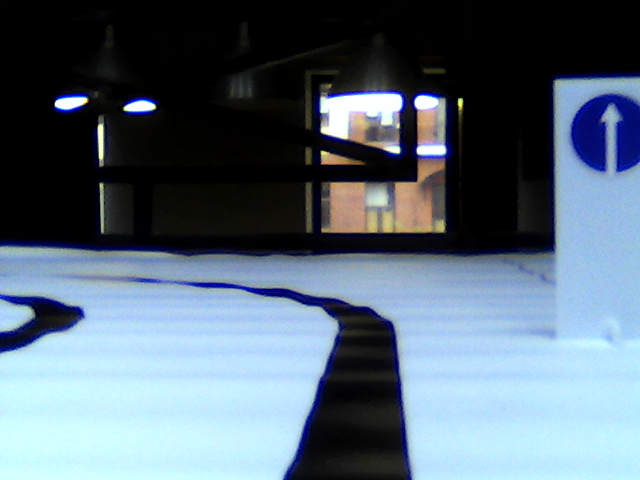forw: (571, 93, 640, 173)
